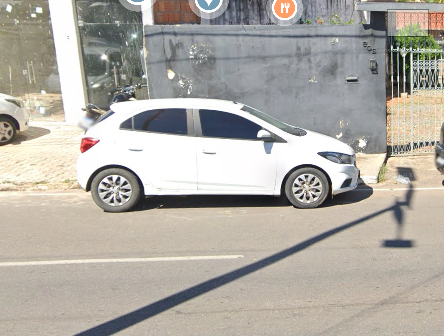car: (74, 93, 362, 211)
